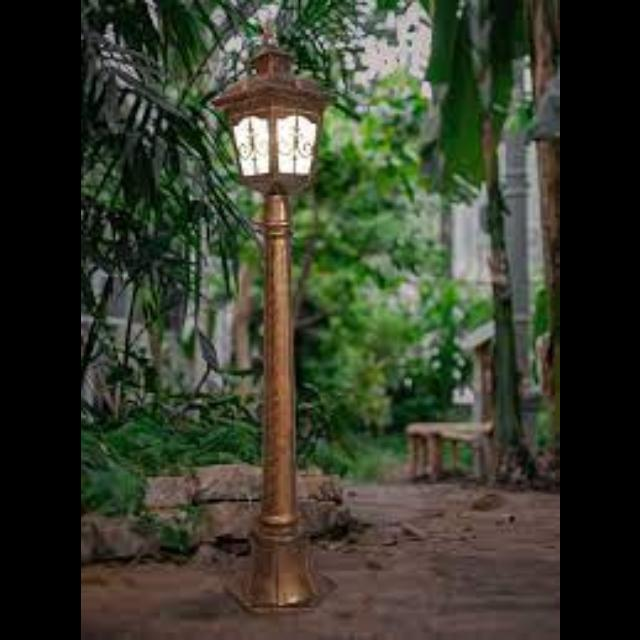Street-Lamp: (209, 14, 339, 622)
